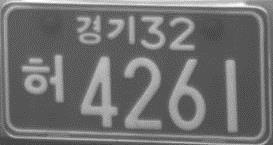1: (219, 55, 243, 135)
2: (123, 54, 163, 131), (168, 15, 197, 52)
3: (139, 14, 167, 50)
4: (78, 56, 119, 129)
6: (167, 56, 207, 130)
경기_O: (75, 14, 138, 47)
허: (21, 53, 65, 105)
